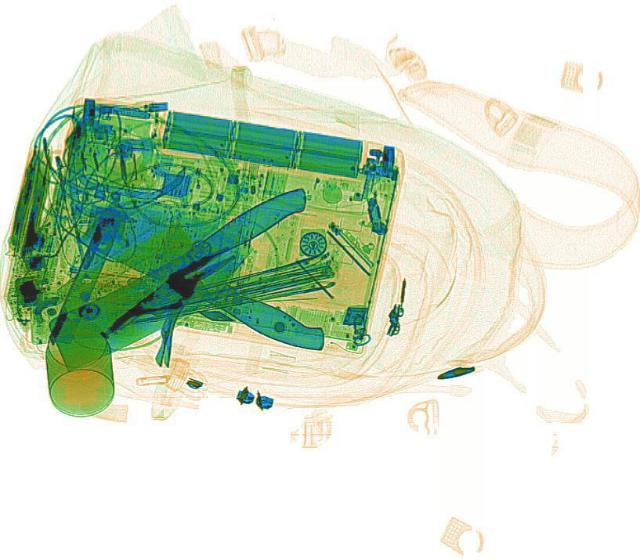Knife: (25, 184, 342, 370), (74, 177, 360, 357)
